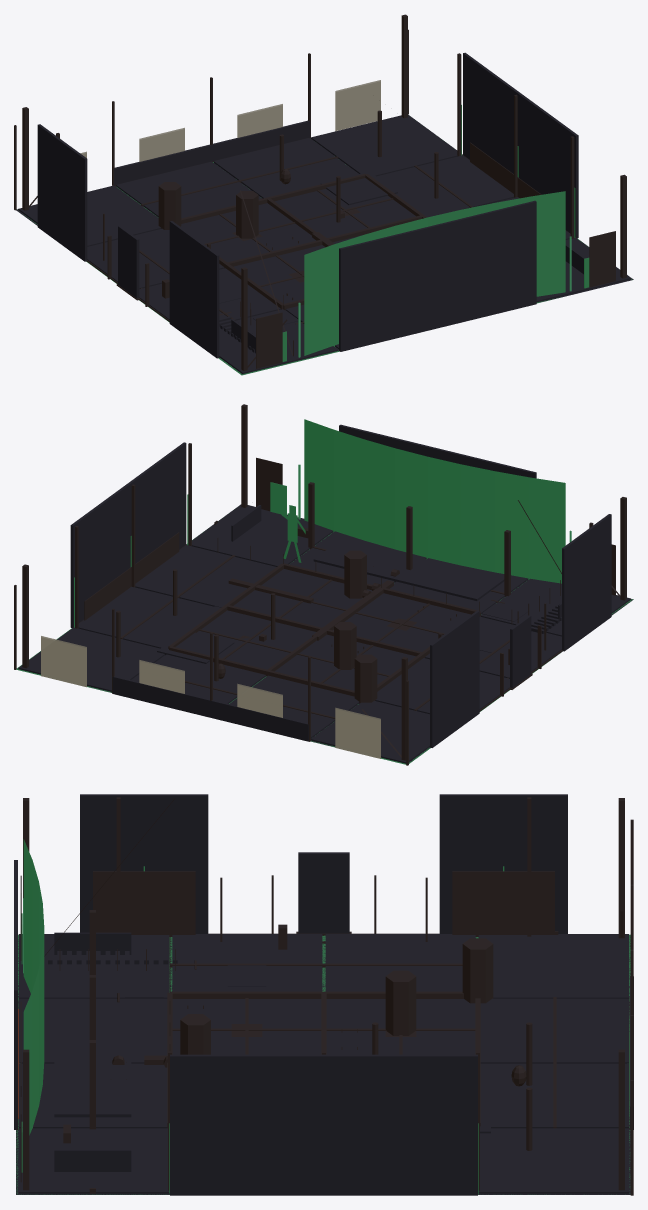
Rendered from fitness-int.glb.
3 renders of one model, top to bottom at view 1: azimuth 30°, elevation 25°; view 2: azimuth 150°, elevation 25°; view 3: azimuth 270°, elevation 25°, orthographic. The views are drawn at different scales.
Visible parts, largest first — view 1: fitness_base, fitness_detail, fitness_emissive, fitness_glass; view 2: fitness_base, fitness_emissive, fitness_detail, fitness_glass; view 3: fitness_base, fitness_detail, fitness_emissive.
Boxes of the visible parts, left/top/right/bottom form: fitness_base: left=16, top=52, right=633, bottom=374; fitness_detail: left=14, top=14, right=626, bottom=370; fitness_emissive: left=17, top=105, right=632, bottom=375; fitness_glass: left=80, top=80, right=380, bottom=161; fitness_base: left=18, top=424, right=633, bottom=763; fitness_emissive: left=16, top=419, right=633, bottom=764; fitness_detail: left=14, top=404, right=626, bottom=765; fitness_glass: left=41, top=636, right=380, bottom=758; fitness_base: left=14, top=794, right=633, bottom=1195; fitness_detail: left=16, top=797, right=633, bottom=1195; fitness_emissive: left=16, top=839, right=630, bottom=1194.
Bounding box in the file's own units: 12.09 × 3.75 × 12.08.
